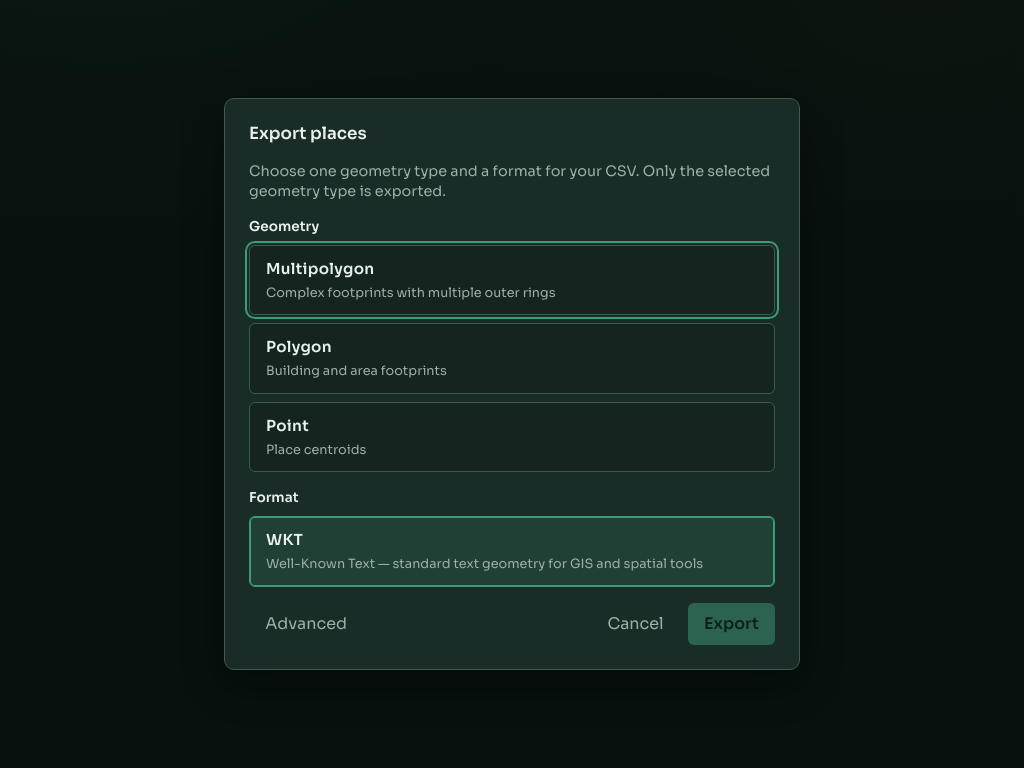
Test case: ExportGeometryModal › aborts an in-flight export when the modal unmounts
Click the button "Point Place centroids" at (288, 425), box [249,402,775,472]
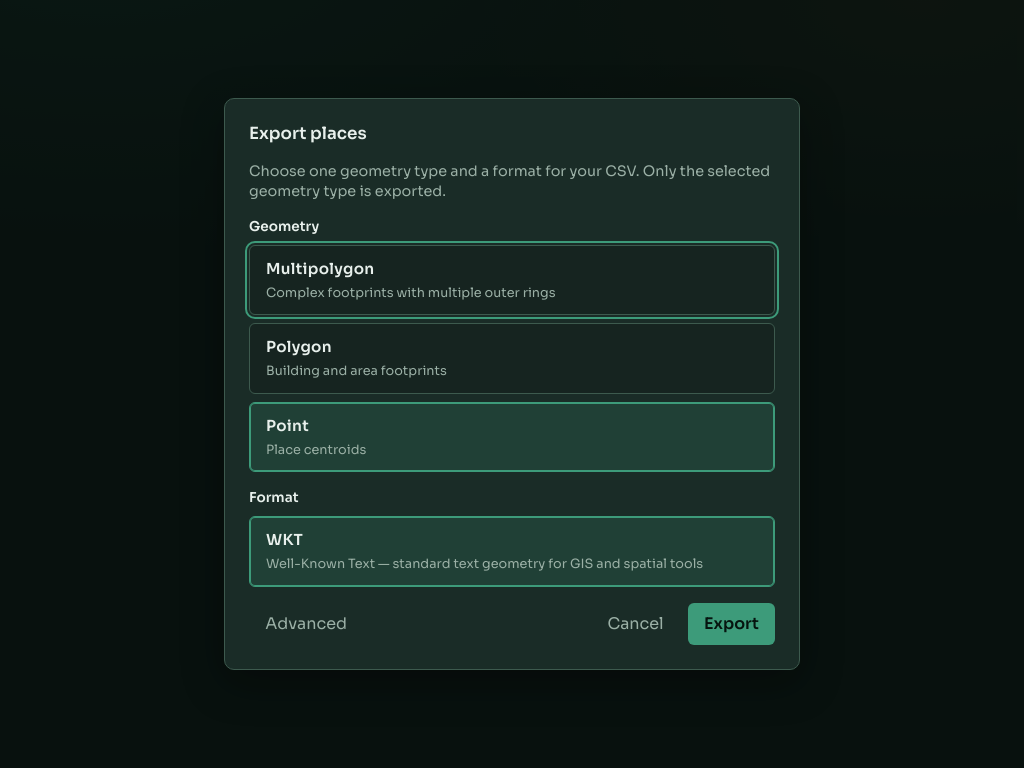
Click the button "Export" at (731, 624), box [688,602,775,645]
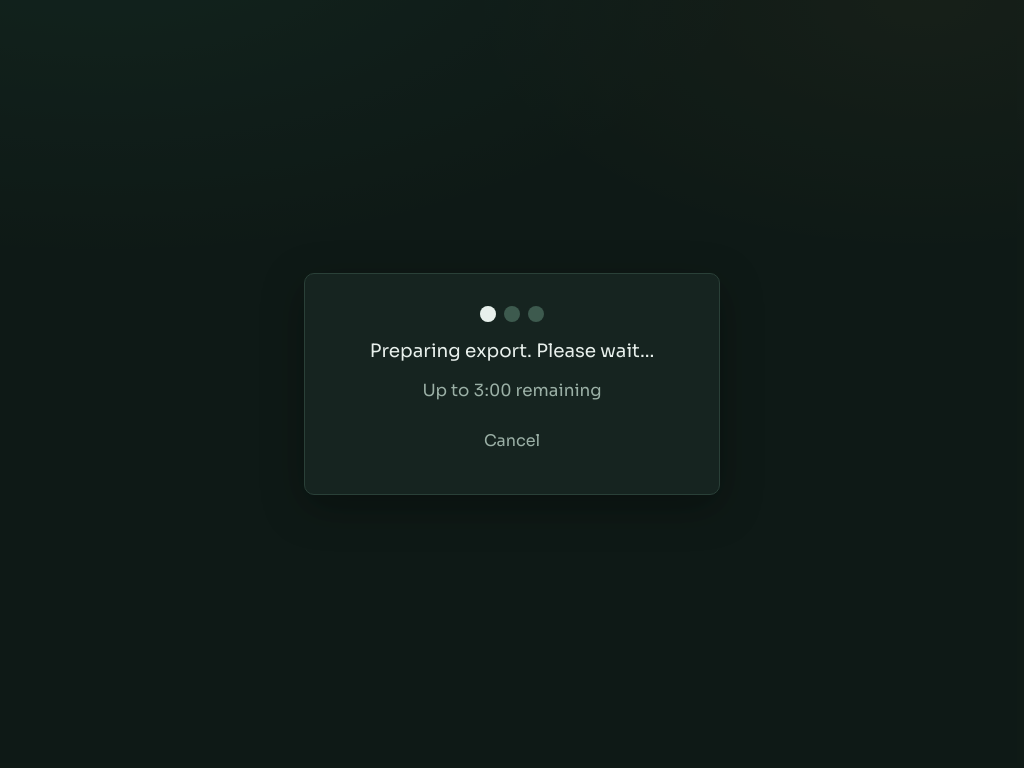
Result: the text "Preparing export. Please wait..." is shown at [370,306,654,364]
